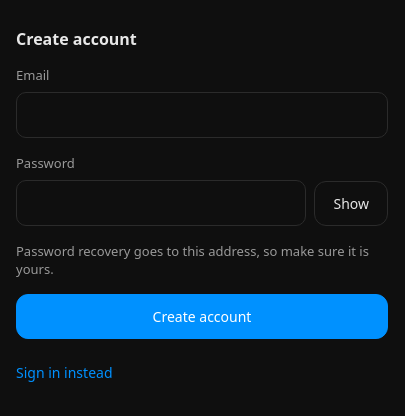
it: CreateAccountScreen › shows the server's refusal with the minimum it asked for, and keeps what was typed
In the field labelled "Email": [202, 115] box [16,92,388,138], type "ana@example.com"
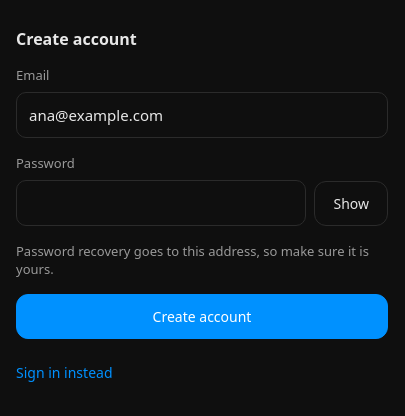
In the password field labelled "Password": [161, 203] box [16,180,306,226], type "a-long-enough-password"
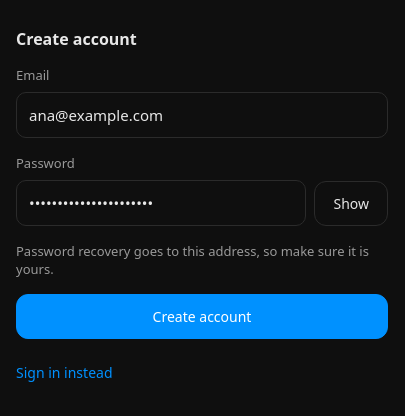
Click the button "Create account": [202, 316] box [16,294,388,339]
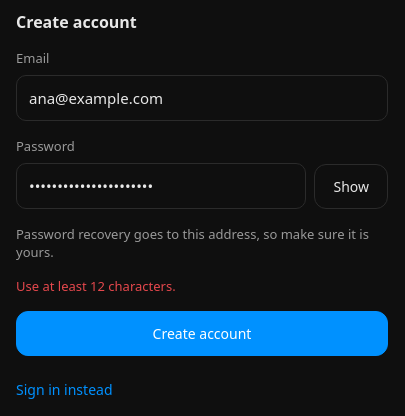
expect the message reads "Use at least 12 characters.": met, box [16,277,176,295]
